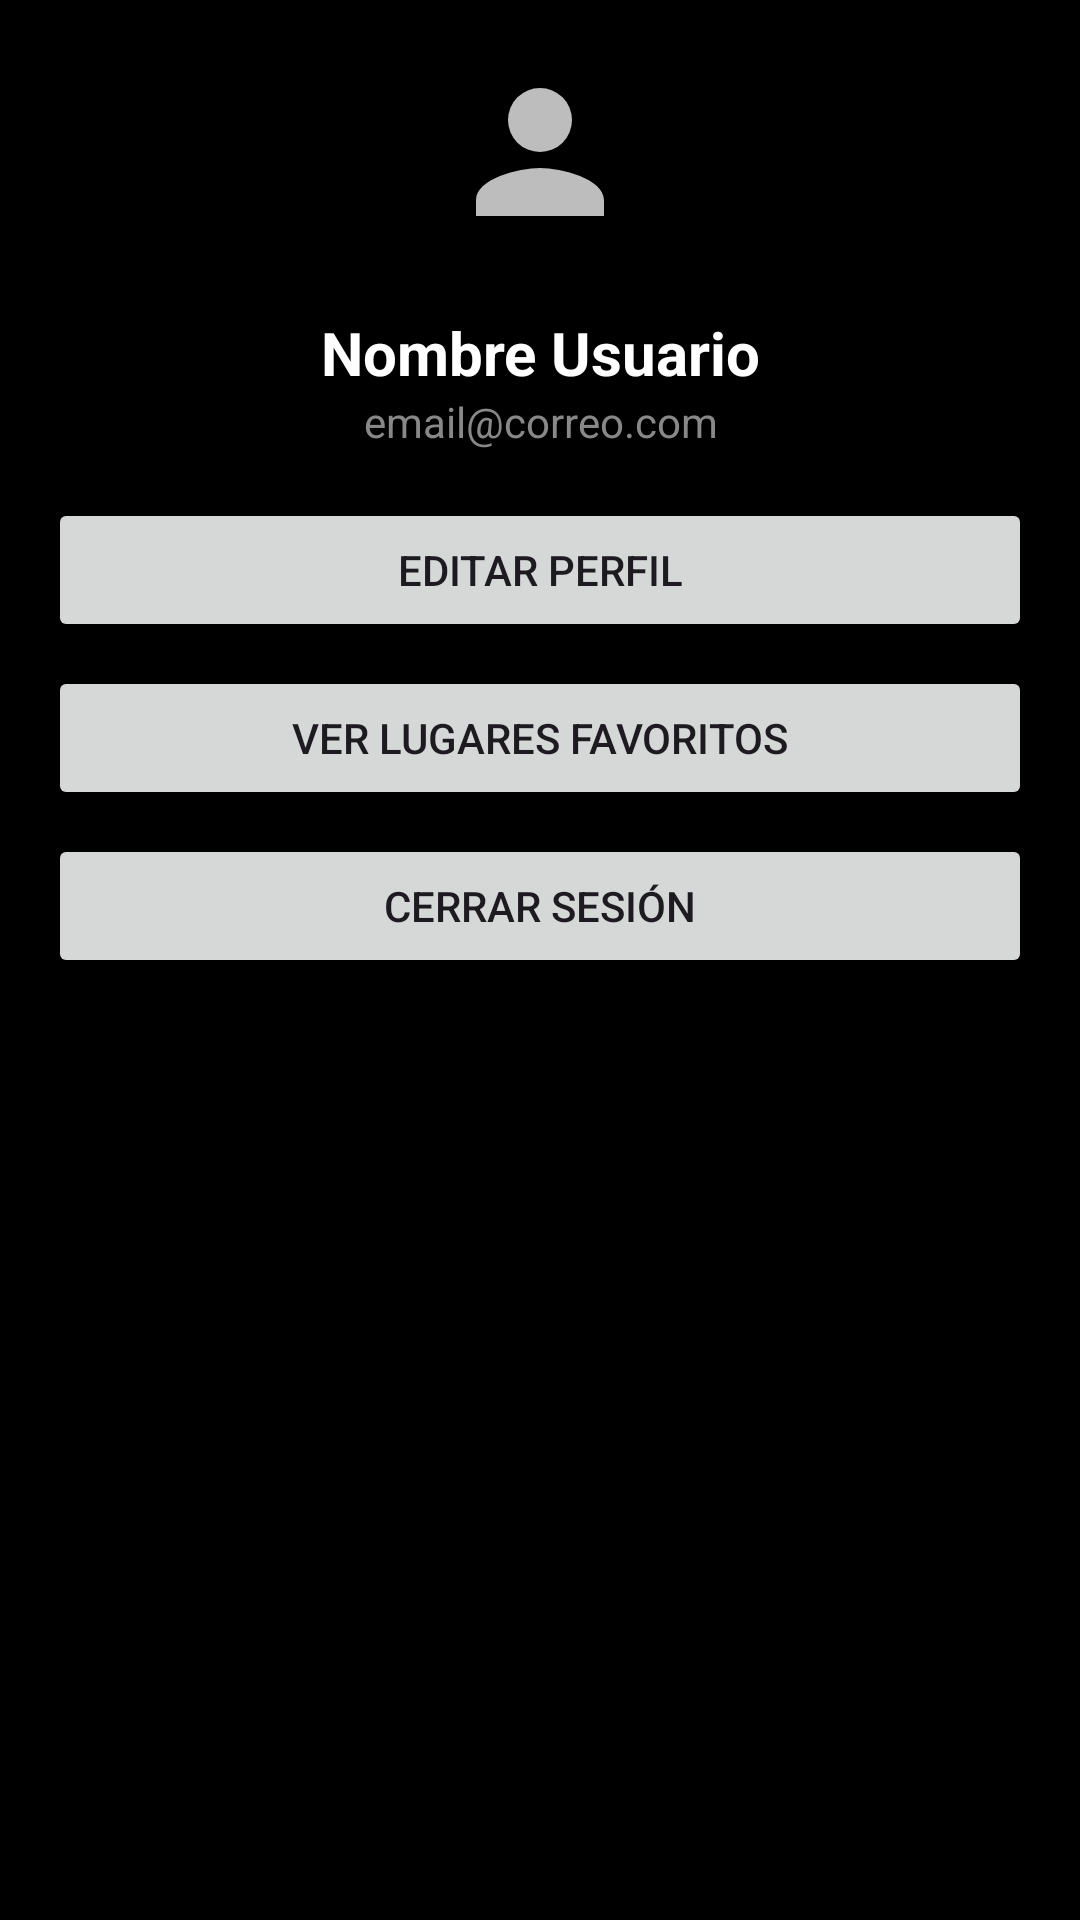

Where to tap for icons on this 1080x1920 app screen, as (x=x, y=y):
person: (x=540, y=152)
